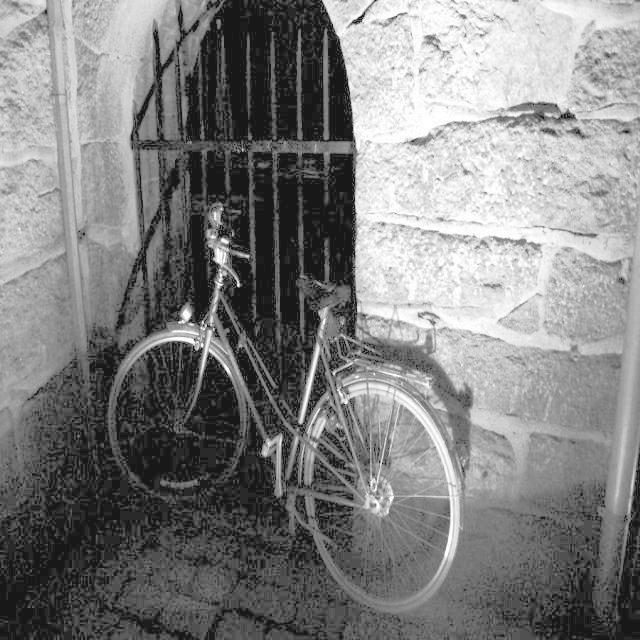Bicycle: (101, 187, 478, 619)
